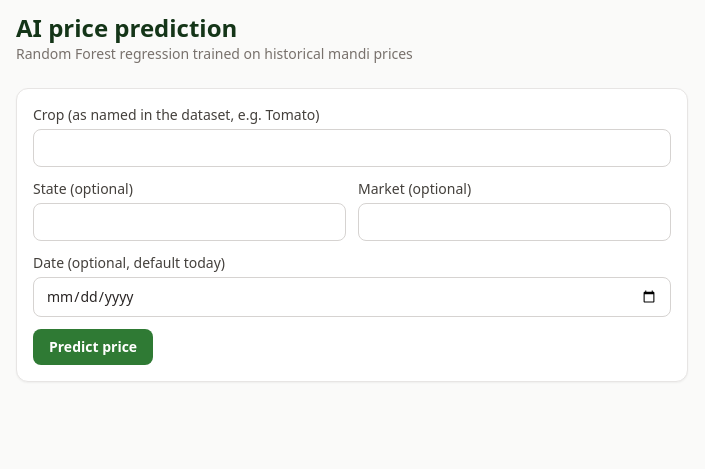
Test case: AI price prediction › shows the service-unavailable message instead of fake data
In the field labelled "Crop (as named in the dataset, e.g. Tomato)": (352, 148) [33, 129, 671, 167], type "Tomato"
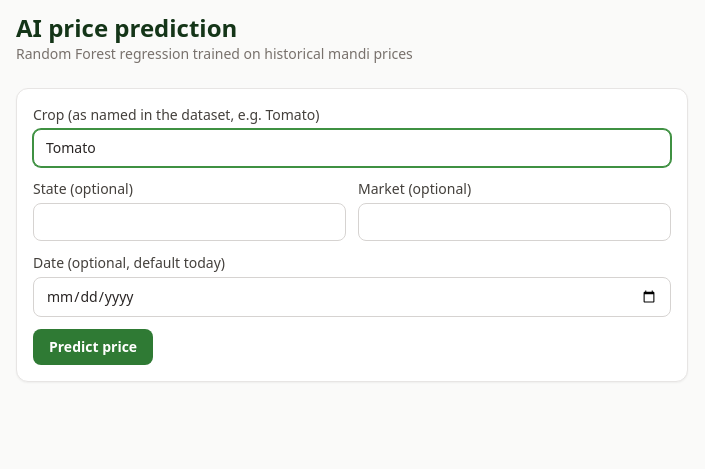
Click the button "Predict price": (93, 347) [33, 329, 153, 365]
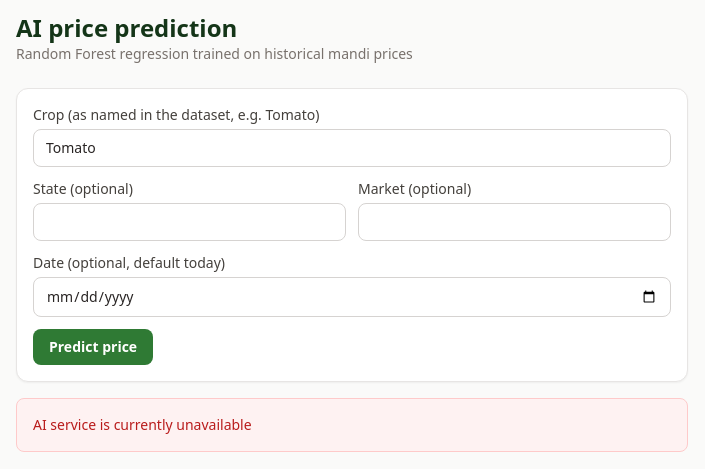
Expected: the message shows "unavailable", [33, 415, 252, 434]
